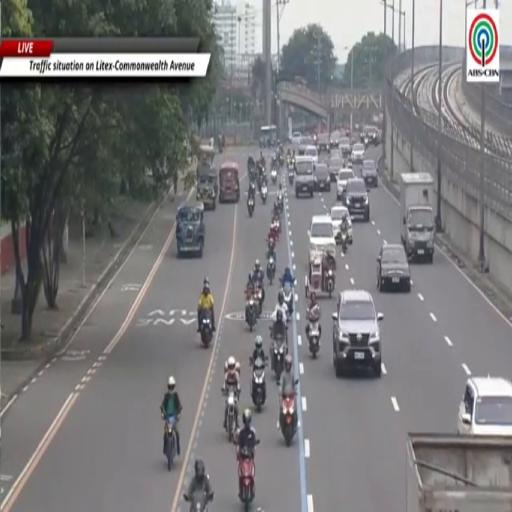car: (333, 291, 383, 377), (458, 377, 511, 436), (377, 245, 410, 292), (308, 215, 335, 263), (345, 179, 369, 221), (330, 205, 353, 244), (295, 156, 314, 198), (337, 169, 354, 200), (314, 163, 330, 191), (362, 159, 378, 187), (328, 156, 343, 182), (363, 125, 380, 146), (351, 143, 365, 164), (304, 146, 318, 164), (317, 134, 330, 152), (339, 137, 351, 155), (330, 131, 341, 149), (300, 136, 314, 146), (291, 132, 301, 145), (329, 149, 342, 158), (297, 146, 305, 155)
jeepney: (176, 202, 205, 258), (197, 167, 218, 210), (259, 125, 276, 148)
motorcycle: (239, 447, 254, 511), (161, 408, 176, 470), (280, 393, 297, 445), (250, 358, 266, 411), (223, 389, 237, 441), (271, 335, 286, 380), (183, 491, 213, 511), (308, 315, 320, 358), (245, 298, 258, 332), (200, 311, 212, 347), (282, 282, 293, 314), (255, 283, 263, 317), (267, 255, 275, 284), (327, 269, 335, 297), (267, 238, 275, 263), (270, 222, 279, 243), (340, 230, 348, 252), (277, 192, 283, 213), (261, 184, 267, 204), (248, 197, 254, 216), (288, 168, 294, 185), (271, 168, 277, 184), (279, 154, 284, 167), (363, 136, 368, 148), (348, 158, 353, 168)
tricycle: (305, 252, 335, 297)
truck: (406, 434, 511, 511), (400, 173, 435, 263)
